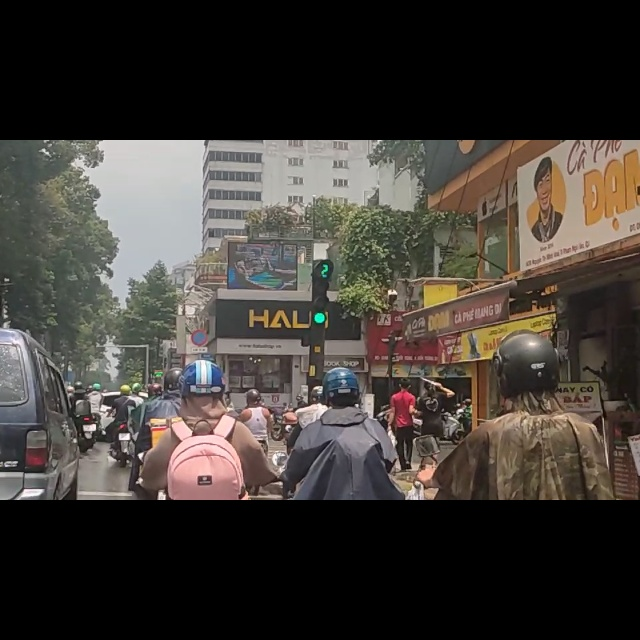bien_cam: (191, 334, 208, 366)
